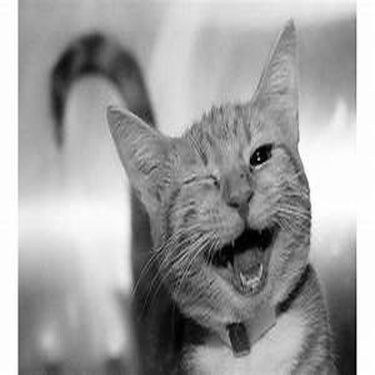cat: (42, 10, 341, 367)
